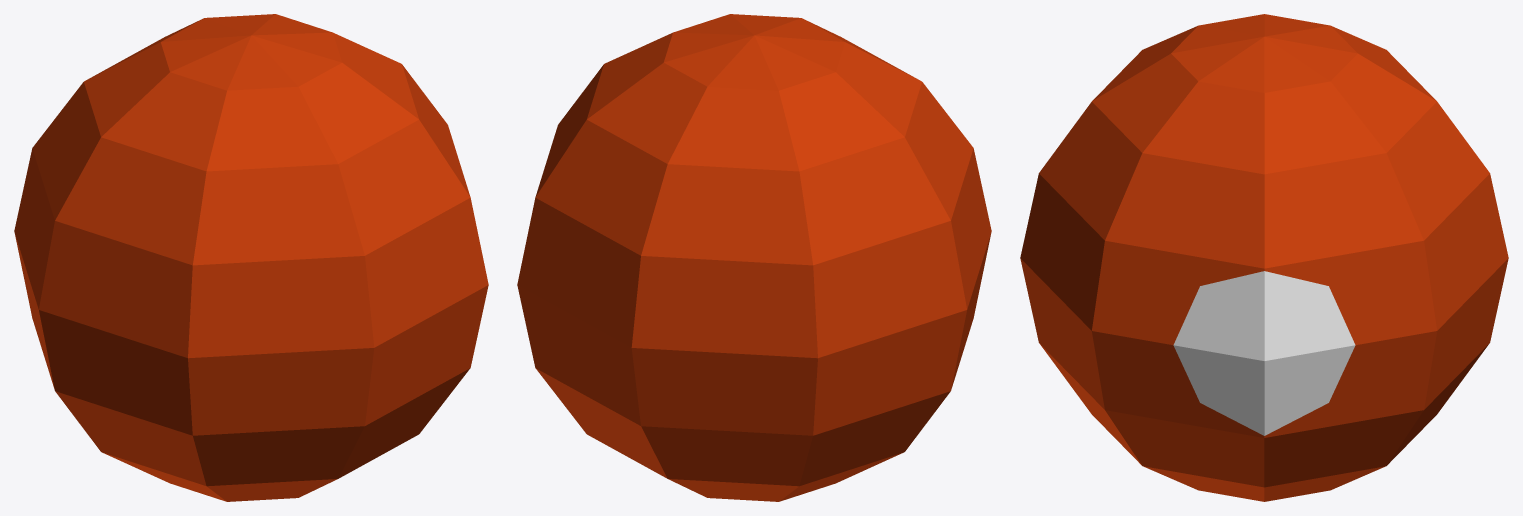
File: laranja1.obj
3 renders of one model, left to right at view 1: azimuth 30°, elevation 25°; view 2: azimuth 150°, elevation 25°; view 3: azimuth 270°, elevation 25°, orthographic.
Parts seen in each view (by area): view 1: all_balls.003; view 2: all_balls.003; view 3: all_balls.003.
Part boxes in pixels (box(x1,y1,x2,y2)): all_balls.003: box(14, 14, 488, 501); all_balls.003: box(517, 14, 991, 501); all_balls.003: box(1020, 14, 1508, 501).
Size of the model in its own units: 0.3459 by 0.3459 by 0.3459.
